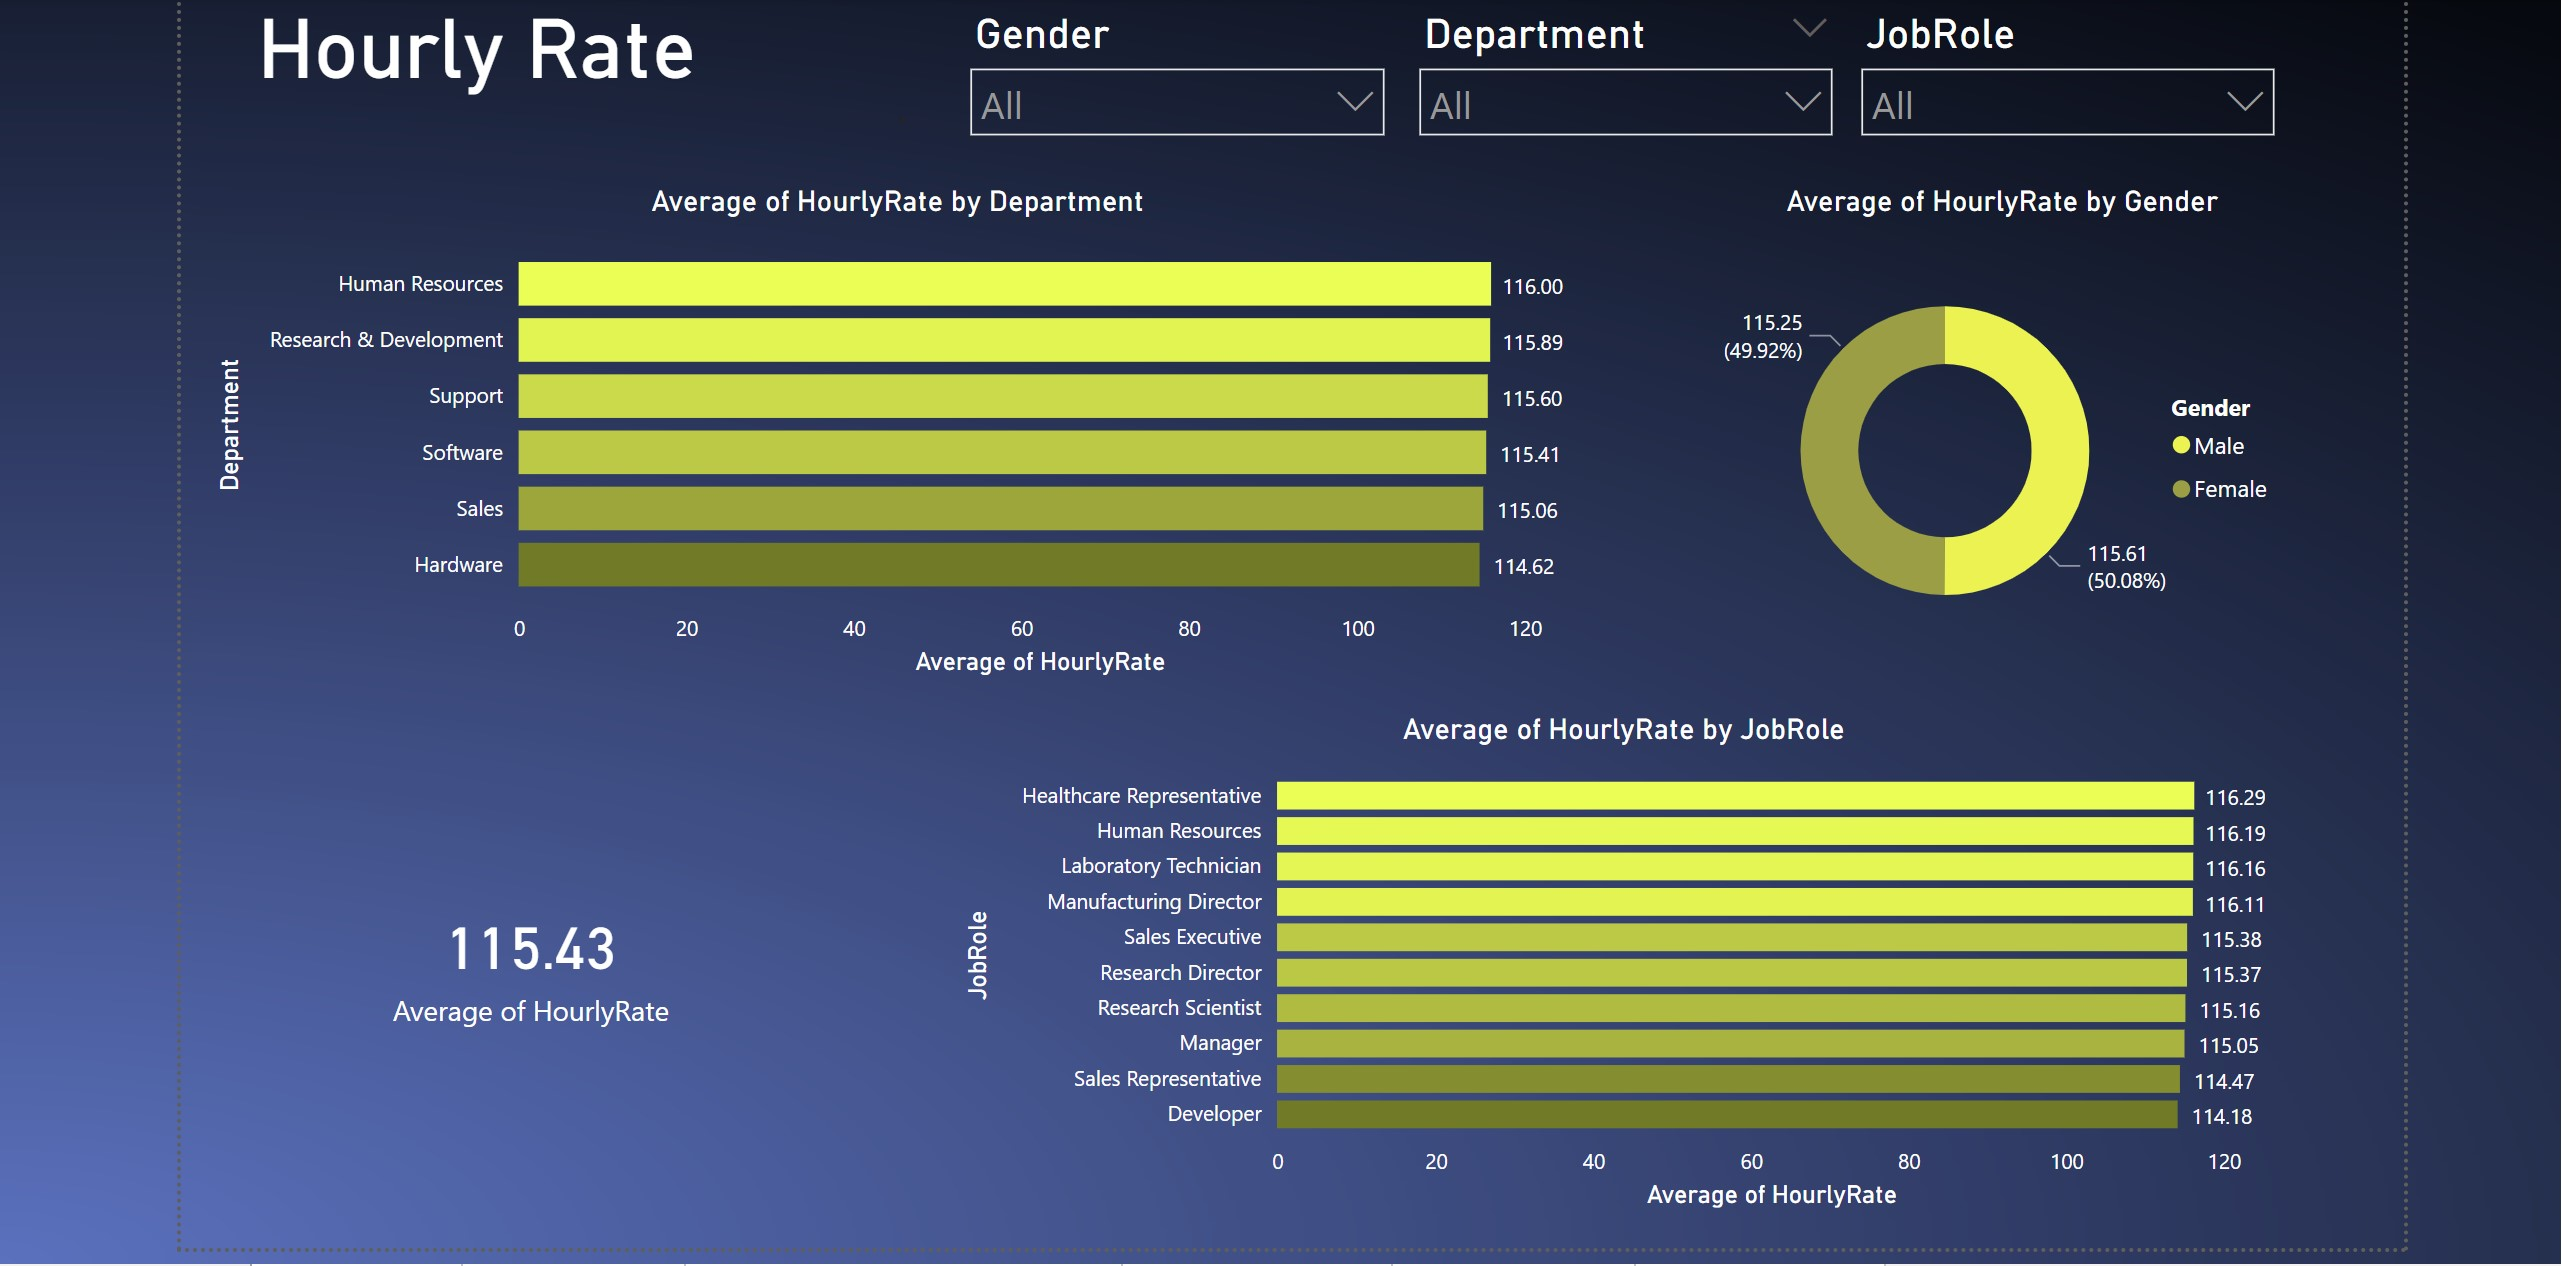

What the dashboard file says about the page in this screenshot:
{"tool":"powerbi","page":{"name":"Hourly Rate","canvas":[1280,720],"ordinal":0},"visuals":[{"type":"card","fields":{"Values":["Avg(Hr_1.HourlyRate)"]},"box":[15.1,427.9,373,256.5],"z":0},{"type":"slicer","fields":{"Values":["Hr_1.Department"]},"box":[702.2,1.4,257.8,107],"z":1000},{"type":"textbox","title":"Hourly Rate","box":[39.4,1.5,746.2,106.2],"z":2000},{"type":"slicer","fields":{"Values":["Hr_1.Gender"]},"box":[444.3,1.4,257.8,107],"z":3000},{"type":"clusteredBarChart","fields":{"Y":["Avg(Hr_1.HourlyRate)"],"Category":["Hr_1.Department"]},"box":[15.1,107,795.4,288],"z":4000},{"type":"clusteredBarChart","fields":{"Y":["Avg(Hr_1.HourlyRate)"],"Category":["Hr_1.JobRole"]},"box":[445.7,411.4,769.4,290.7],"z":5000},{"type":"donutChart","fields":{"Y":["Avg(Hr_1.HourlyRate)"],"Category":["Hr_1.Gender"]},"box":[879.6,107.7,336.7,288.2],"z":6000},{"type":"slicer","fields":{"Values":["Hr_1.JobRole"]},"box":[957.3,1.4,257.8,107],"z":7000}]}

Visuals, with their boxes on the page's 1280x720 design canvas (x1, y1, x2, y2). These are canvas units, not pixel positions in the 2562x1266 screenshot, which may show the page scaled, cropped or inside an application window:
card - Avg(Hr_1.HourlyRate): {"x1": 15, "y1": 428, "x2": 388, "y2": 684}
slicer - Hr_1.Department: {"x1": 702, "y1": 1, "x2": 960, "y2": 108}
"Hourly Rate" textbox: {"x1": 39, "y1": 2, "x2": 786, "y2": 108}
slicer - Hr_1.Gender: {"x1": 444, "y1": 1, "x2": 702, "y2": 108}
clusteredBarChart - Avg(Hr_1.HourlyRate) x Hr_1.Department: {"x1": 15, "y1": 107, "x2": 810, "y2": 395}
clusteredBarChart - Avg(Hr_1.HourlyRate) x Hr_1.JobRole: {"x1": 446, "y1": 411, "x2": 1215, "y2": 702}
donutChart - Avg(Hr_1.HourlyRate) x Hr_1.Gender: {"x1": 880, "y1": 108, "x2": 1216, "y2": 396}
slicer - Hr_1.JobRole: {"x1": 957, "y1": 1, "x2": 1215, "y2": 108}
